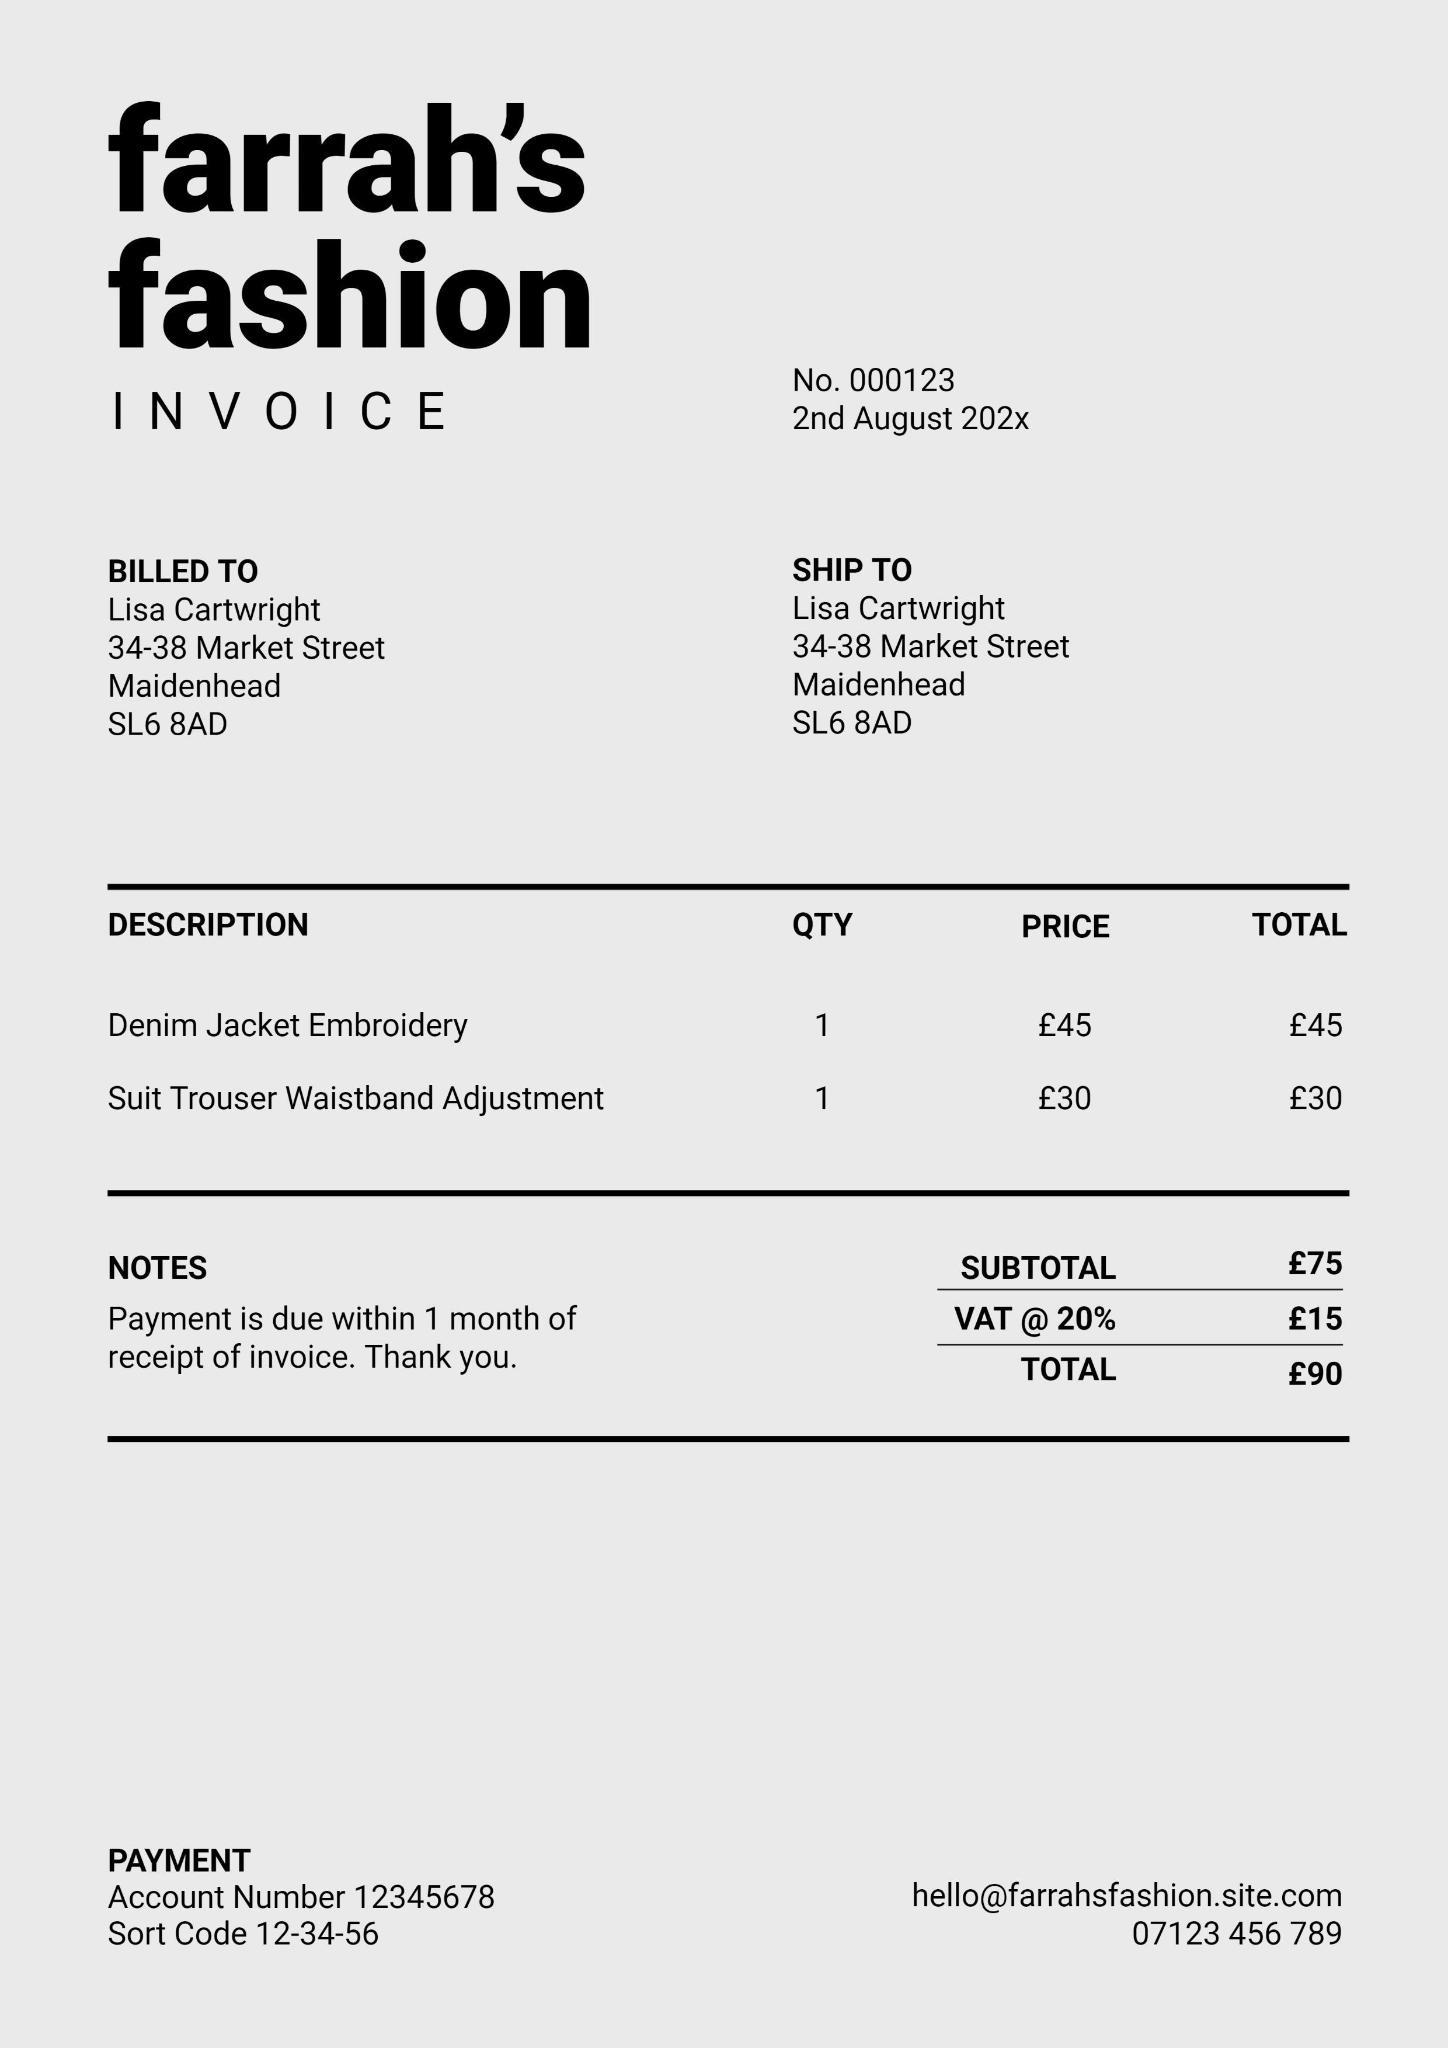ROI: (74, 874, 1373, 1181), (77, 72, 611, 450), (910, 1221, 1367, 1440), (99, 1228, 613, 1393), (766, 514, 1100, 758), (72, 1810, 552, 1979), (81, 526, 418, 754), (892, 1833, 1376, 1984), (765, 343, 1050, 447)
